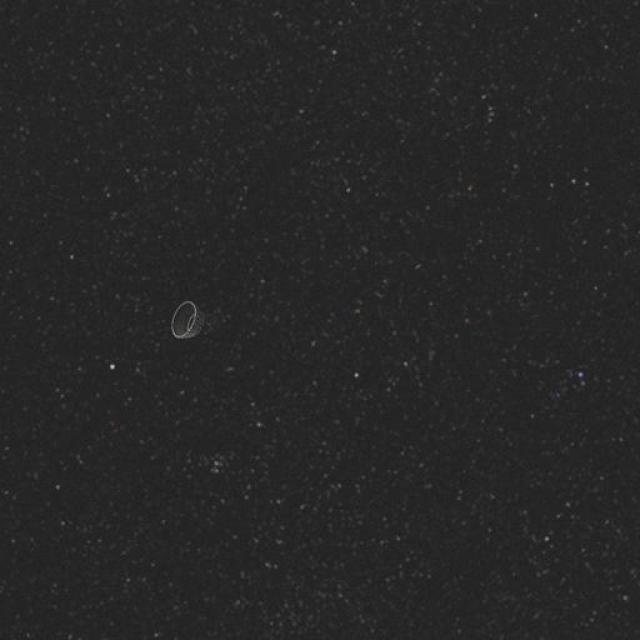debris: (165, 293, 227, 348)
